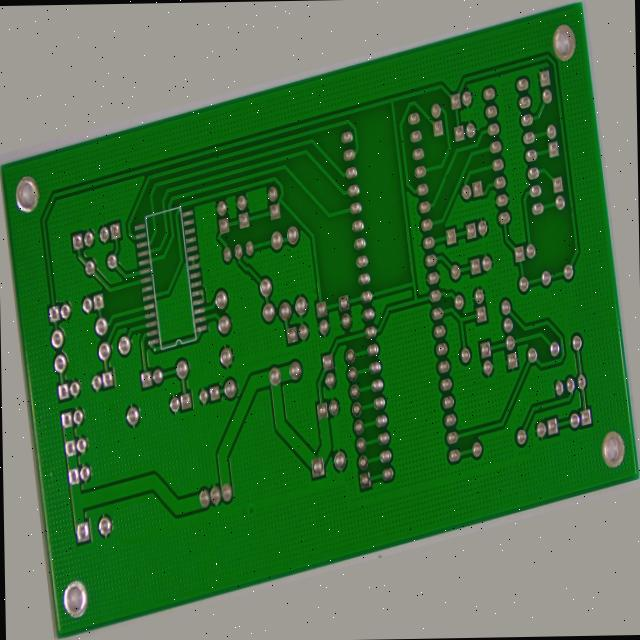mouse_bite: (463, 169, 472, 190), (540, 494, 548, 509), (587, 497, 593, 513)
